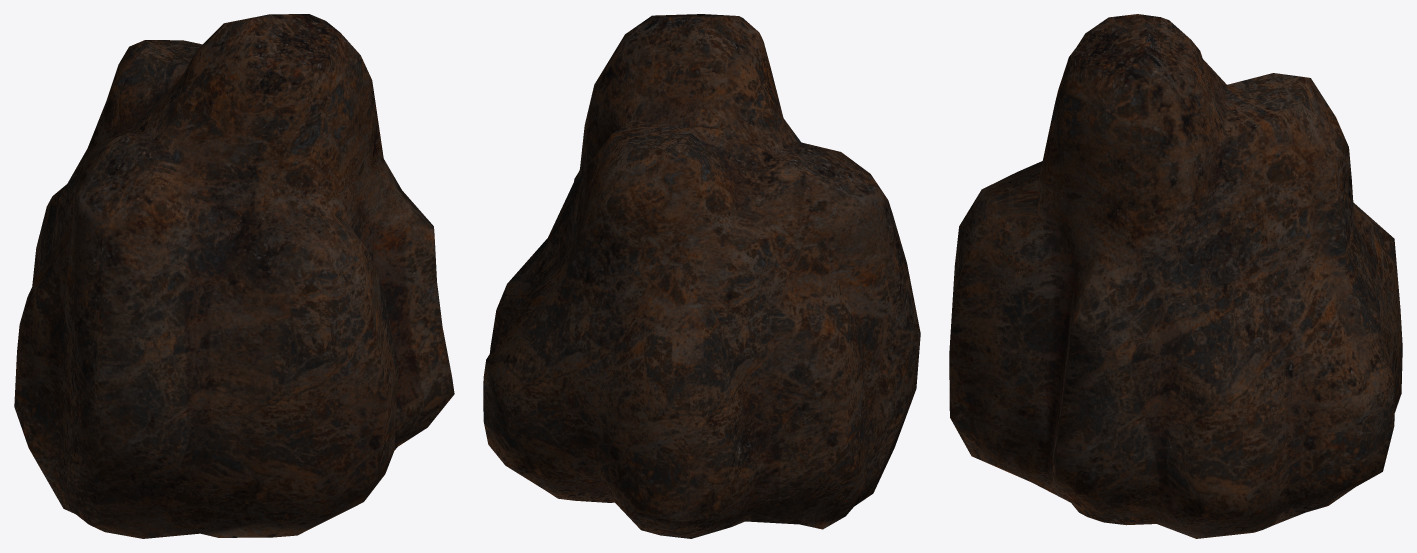
File: sb_obj_nature007_Rock05a.fbx
The picture shows the model from 3 angles, left to right: view 1: azimuth 30°, elevation 25°; view 2: azimuth 150°, elevation 25°; view 3: azimuth 270°, elevation 25°; orthographic projection. The views are drawn at different scales.
Visible parts, largest first — view 1: sb_obj_nature007_Rock05a; view 2: sb_obj_nature007_Rock05a; view 3: sb_obj_nature007_Rock05a.
Boxes of the visible parts, left/top/right/bottom form: sb_obj_nature007_Rock05a: left=14, top=14, right=454, bottom=538; sb_obj_nature007_Rock05a: left=483, top=14, right=920, bottom=538; sb_obj_nature007_Rock05a: left=949, top=14, right=1402, bottom=538.
Bounding box in the file's own units: 2.71 × 3.23 × 2.78.
1 material, 1 textured.
